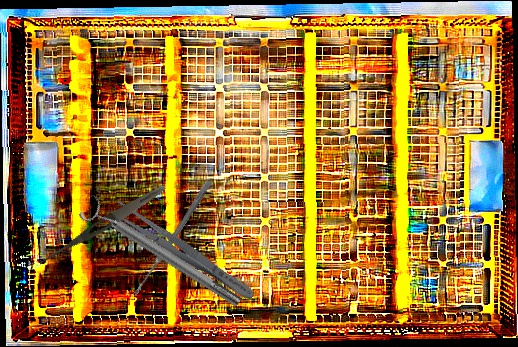Dressing Forceps: (108, 197, 259, 306), (36, 181, 169, 270)
Fixation Ring: (77, 191, 247, 317)
Surgical Spoon: (132, 179, 212, 298)
